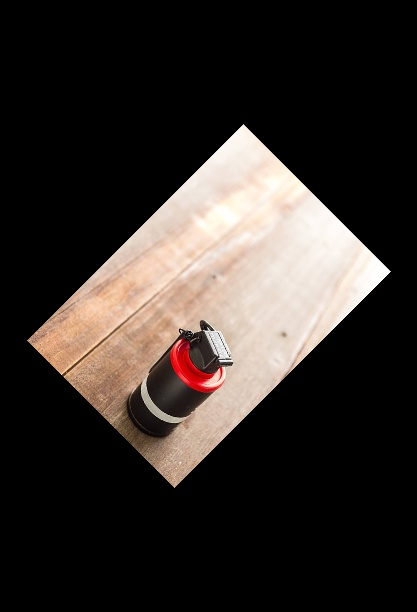e1: (119, 318, 233, 440)
